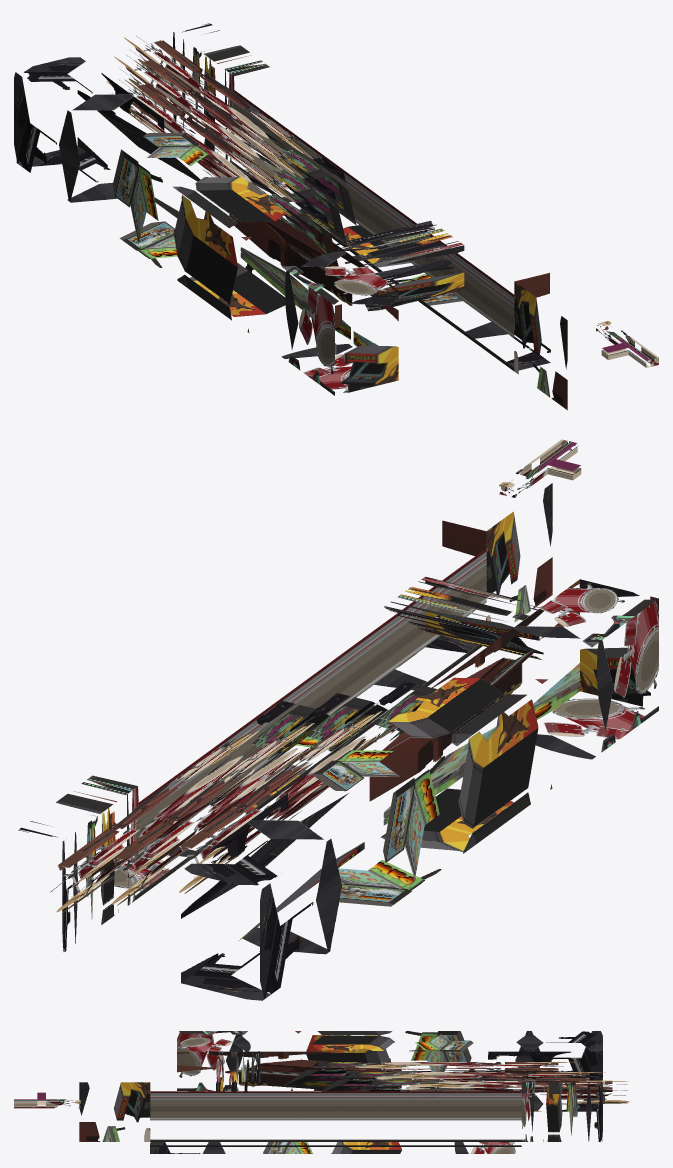
3 views of the same model, one above another, from view 1: azimuth 30°, elevation 25°; view 2: azimuth 150°, elevation 25°; view 3: azimuth 270°, elevation 25° (orthographic). The views are drawn at different scales.
Bounding box in the file's own units: 0.8429 × 0.363 × 3.53.
